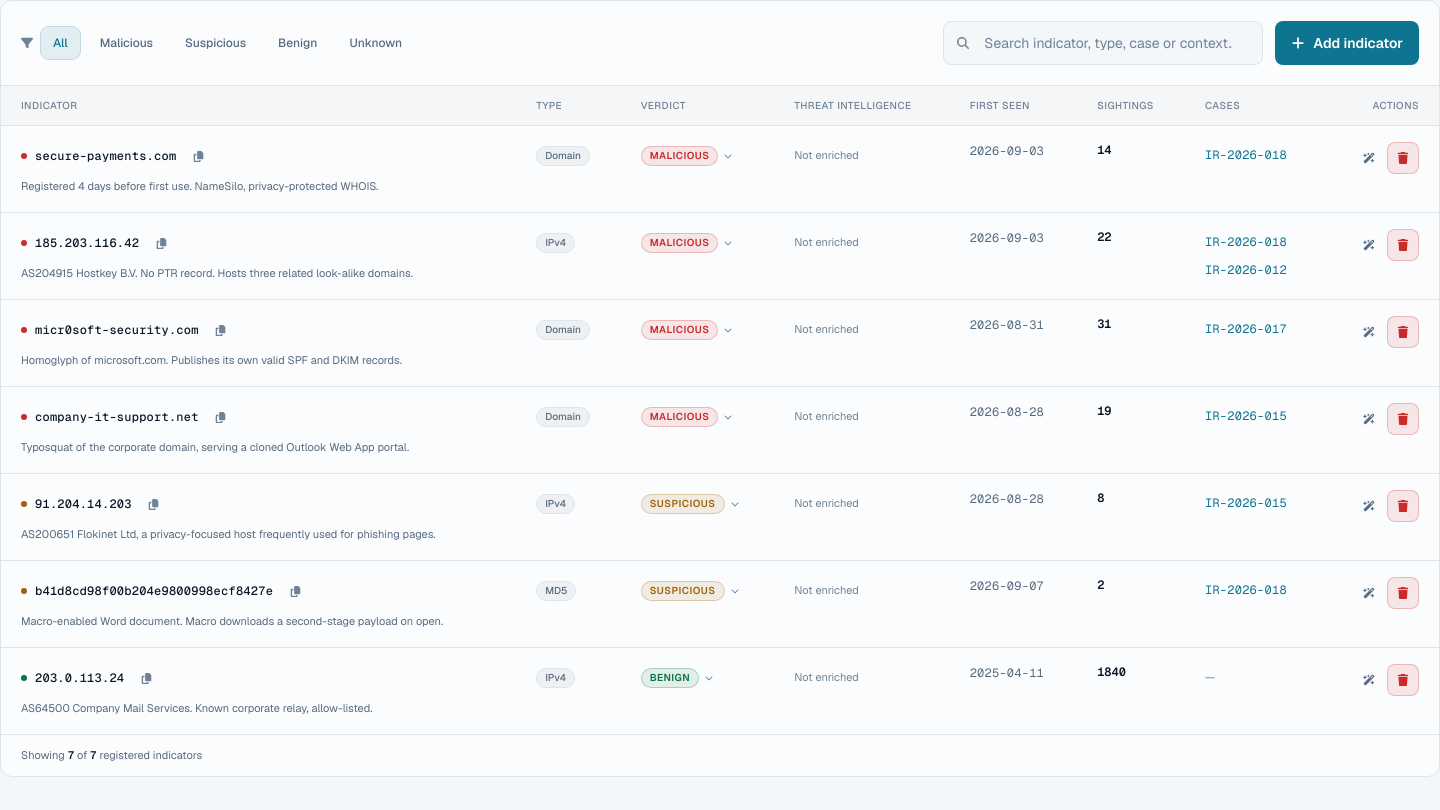
Scenario: indicator registry › registers a new indicator as unknown
Click the button "Add indicator". click: (1347, 43)
box: top-left (1275, 21), bottom-right (1419, 65)
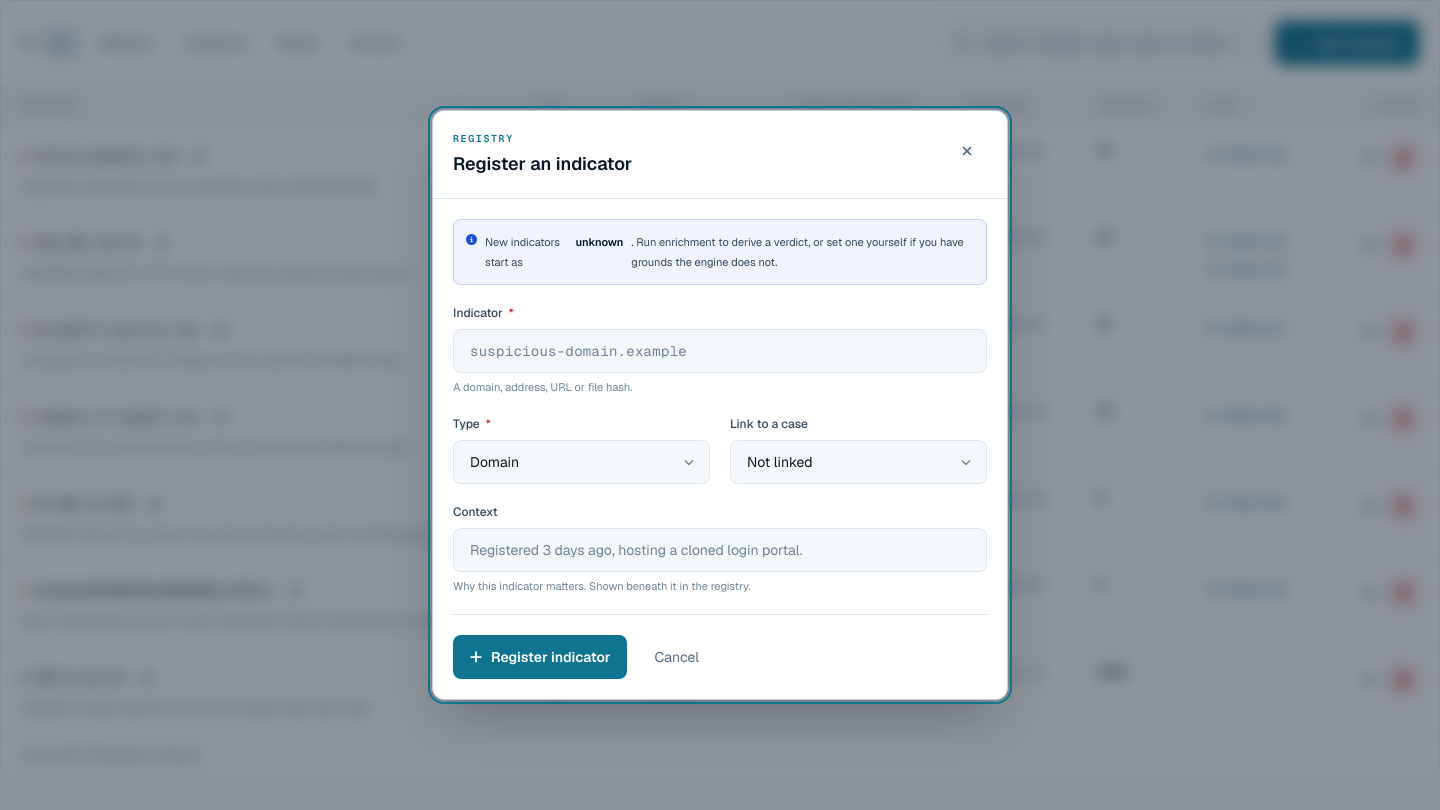
Type "fresh-typosquat.example" into the field labelled "Indicator *". click: (720, 351)
box: top-left (453, 329), bottom-right (987, 373)
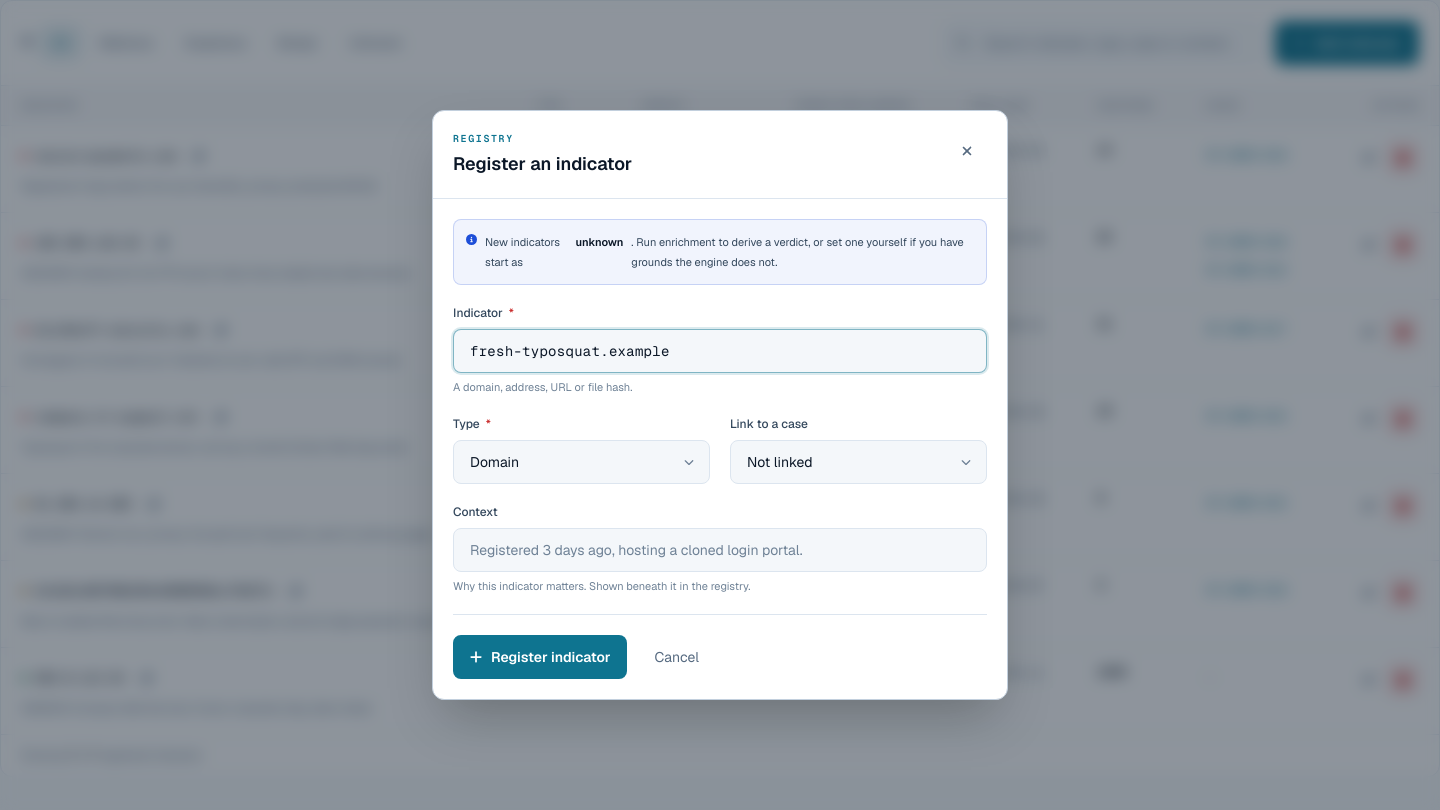
Click the button "Register indicator". click: (540, 657)
box: top-left (453, 635), bottom-right (627, 679)
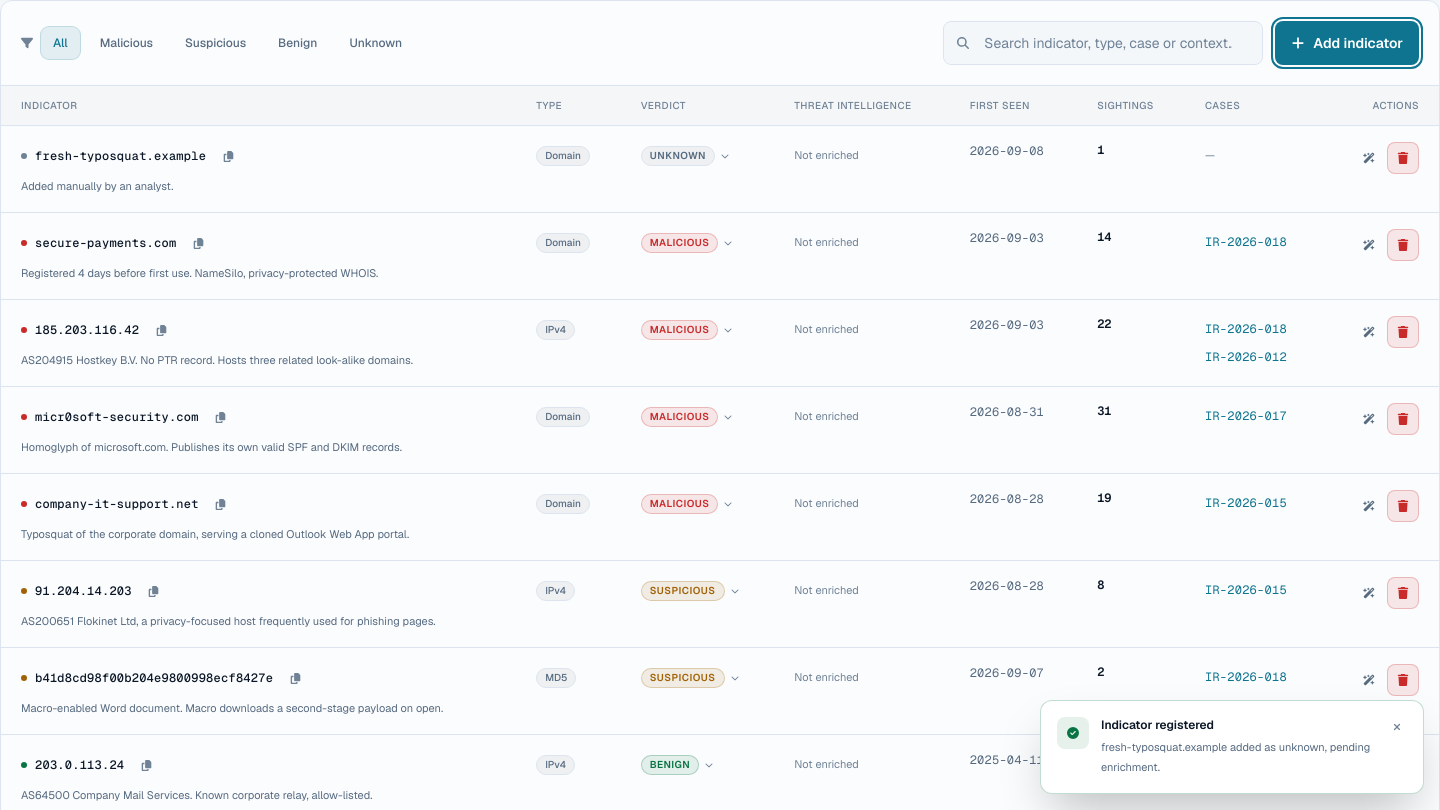
Check: the text "fresh-typosquat.example" is shown, box top-left (35, 147), bottom-right (206, 165)
Check: the text "unknown" is shown, box top-left (641, 146), bottom-right (715, 166)
